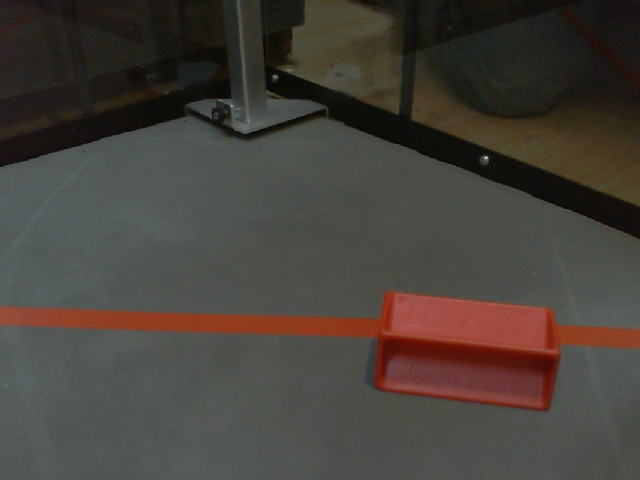RedSample: (370, 289, 566, 415)
